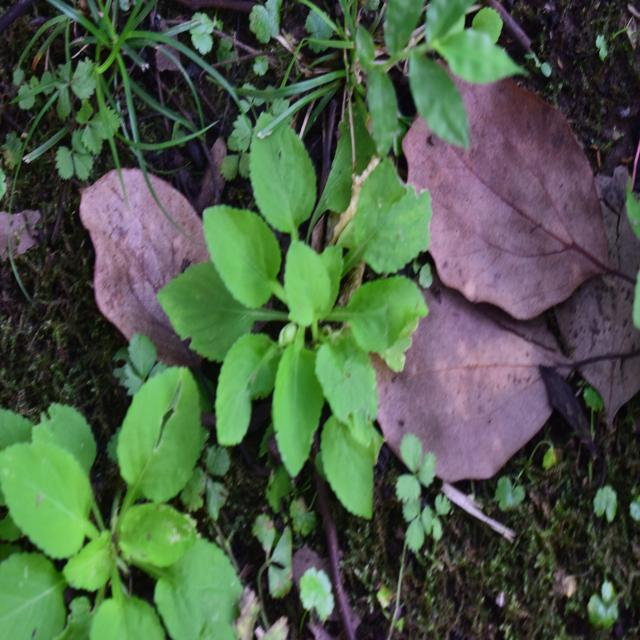Viola: (172, 130, 442, 500)
